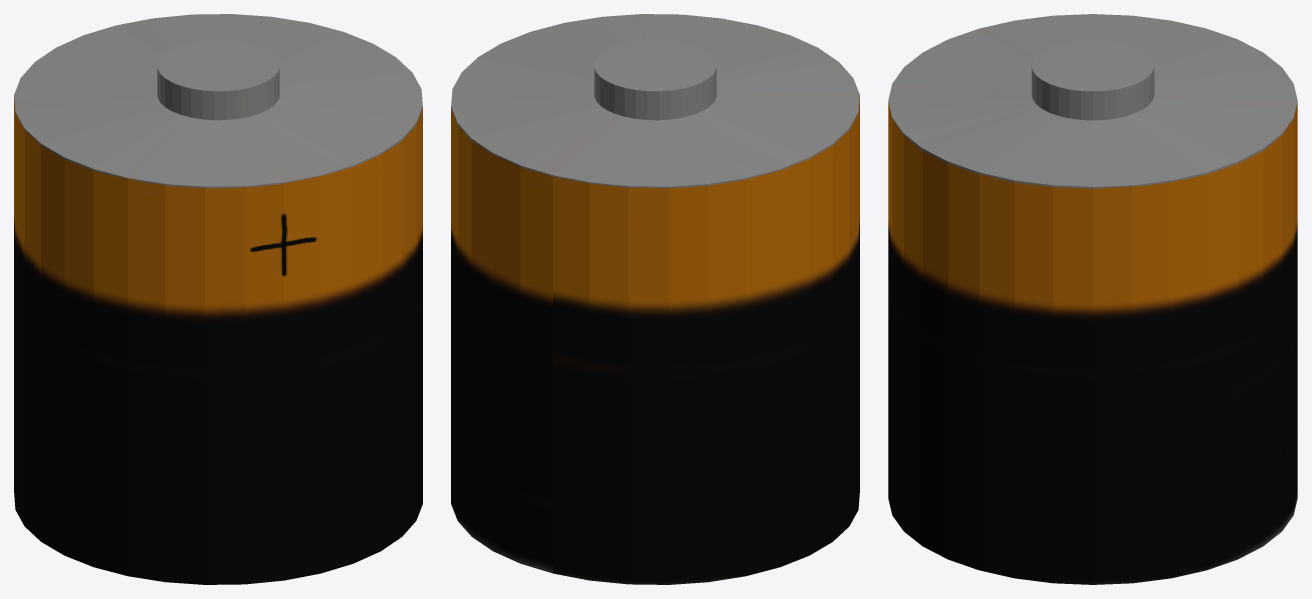
The model's file is battery2.glb.
The picture shows the model from 3 angles, left to right: view 1: azimuth 30°, elevation 25°; view 2: azimuth 150°, elevation 25°; view 3: azimuth 270°, elevation 25°; orthographic projection.
Parts seen in each view (by area): view 1: Cylinder; view 2: Cylinder; view 3: Cylinder.
Part boxes in pixels (<box>): Cylinder: <box>14,14,422,584</box>; Cylinder: <box>451,14,859,584</box>; Cylinder: <box>888,14,1297,584</box>.
Bounding box in the file's own units: 1.01 × 1.2 × 1.01.
1 material, 1 textured.
